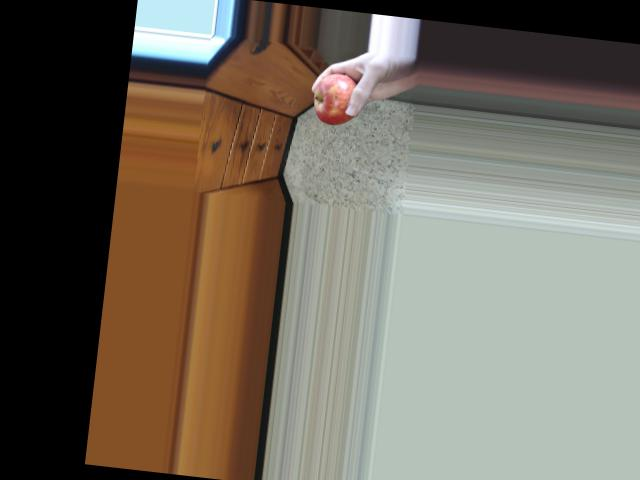apple: (308, 64, 372, 129)
